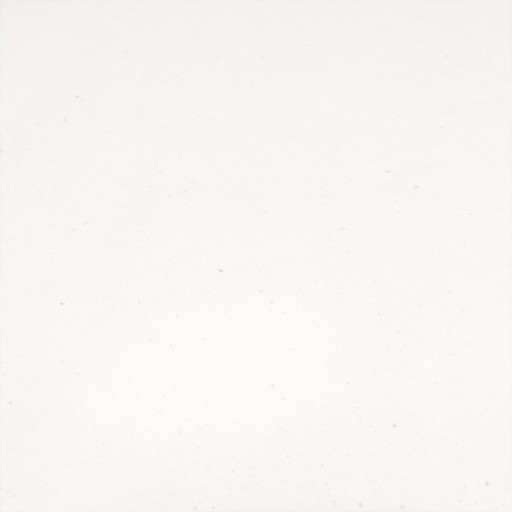lego: (242, 243, 268, 272)
